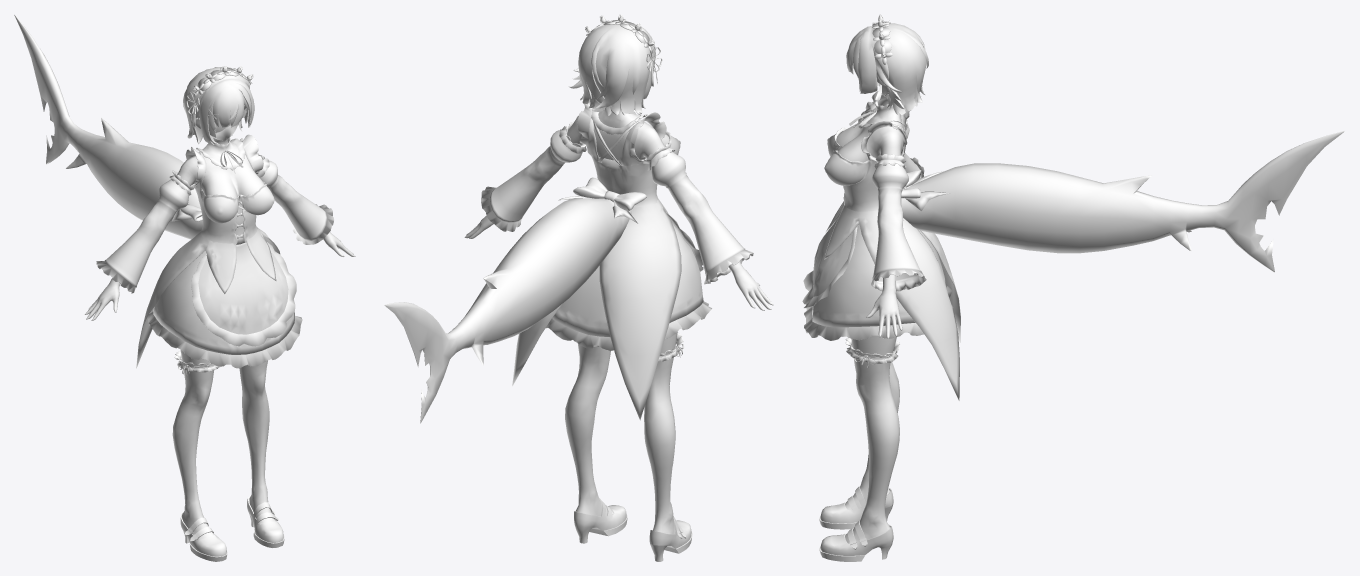
The model's file is EllenJoe.glb.
The picture shows the model from 3 angles, left to right: view 1: azimuth 30°, elevation 25°; view 2: azimuth 150°, elevation 25°; view 3: azimuth 270°, elevation 25°; orthographic projection. The views are drawn at different scales.
Parts seen in each view (by area): view 1: skirt_01, EllenHairA-vb0=a5448398.txt, EllenBodyA-vb0=89d5fba4.txt.001, shirt_01.001, shirt_01, skirt_01.001, top_acc_01, bot_acc_01; view 2: EllenBodyA-vb0=89d5fba4.txt.001, EllenHairA-vb0=a5448398.txt, skirt_01.001, shirt_01.001, skirt_01, shirt_01, top_acc_02, bot_acc_01, top_acc_01; view 3: EllenBodyA-vb0=89d5fba4.txt.001, EllenHairA-vb0=a5448398.txt, skirt_01, skirt_01.001, shirt_01.001, shirt_01, top_acc_01, top_acc_02, bot_acc_01.
Boxes of the visible parts, x1,y1,x2,y2 form: skirt_01: [147, 242, 302, 368]; EllenHairA-vb0=a5448398.txt: [172, 66, 284, 561]; EllenBodyA-vb0=89d5fba4.txt.001: [14, 14, 355, 320]; shirt_01.001: [96, 153, 333, 293]; shirt_01: [185, 134, 274, 244]; skirt_01.001: [136, 226, 280, 368]; top_acc_01: [196, 138, 245, 173]; bot_acc_01: [186, 66, 253, 126]; EllenBodyA-vb0=89d5fba4.txt.001: [384, 115, 773, 423]; EllenHairA-vb0=a5448398.txt: [565, 21, 692, 561]; skirt_01.001: [512, 198, 681, 420]; shirt_01.001: [481, 122, 753, 284]; skirt_01: [546, 212, 711, 350]; shirt_01: [577, 102, 680, 207]; top_acc_02: [558, 177, 646, 223]; bot_acc_01: [585, 14, 662, 86]; top_acc_01: [591, 108, 647, 134]; EllenBodyA-vb0=89d5fba4.txt.001: [836, 84, 1344, 338]; EllenHairA-vb0=a5448398.txt: [819, 23, 928, 561]; skirt_01: [802, 217, 953, 340]; skirt_01.001: [824, 201, 960, 400]; shirt_01.001: [871, 119, 926, 291]; shirt_01: [824, 91, 909, 211]; top_acc_01: [849, 101, 905, 128]; top_acc_02: [901, 170, 950, 210]; bot_acc_01: [872, 14, 892, 64].
Size of the model in its own units: 0.9512 by 1.59 by 1.5.
Materials: 29 (17 with a texture image).
